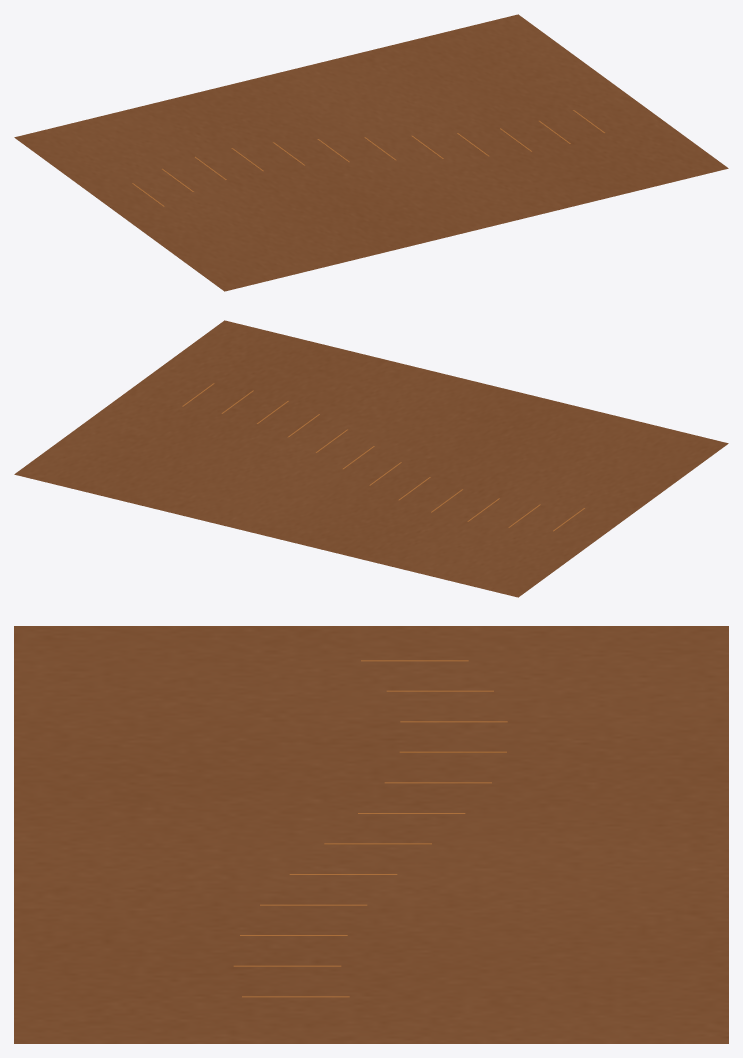
Rendered from 290_L120_L25_LayerReference.obj.
The picture shows the model from 3 angles, top to bottom: view 1: azimuth 30°, elevation 25°; view 2: azimuth 150°, elevation 25°; view 3: azimuth 270°, elevation 25°; orthographic projection. The views are drawn at different scales.
Parts seen in each view (by area): view 1: 290_L120_L25_LayerReference; view 2: 290_L120_L25_LayerReference; view 3: 290_L120_L25_LayerReference.
Boxes of the visible parts, <box> form: 290_L120_L25_LayerReference: <box>14,14,728,291</box>; 290_L120_L25_LayerReference: <box>14,320,728,597</box>; 290_L120_L25_LayerReference: <box>14,626,728,1043</box>.
Bounding box in the file's own units: 0.506 × 7e-05 × 0.366.
Materials: 2 (2 with a texture image).
